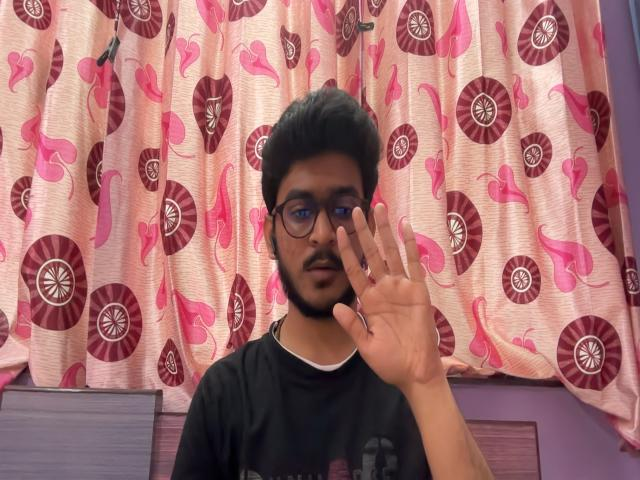Hello: (329, 197, 456, 395)
